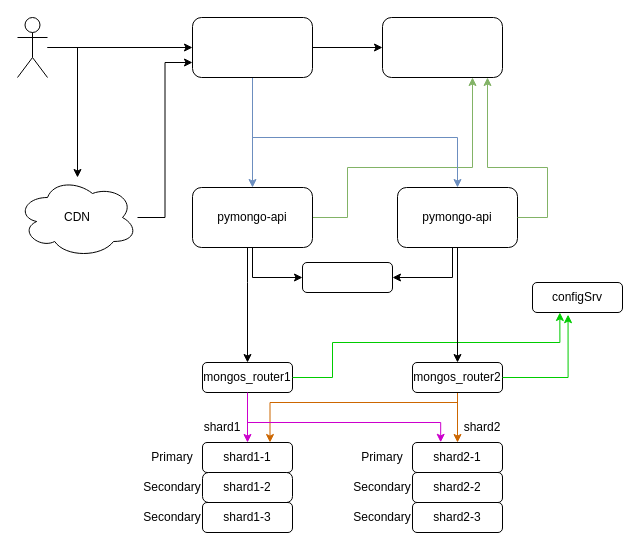
Image size: 640x550. Some labels were removed from this diagram. Each missing label, with the centre of its shape:
"Actor" belongs at [32,47].
"APISIX Gateway" belongs at [252,47].
"Consul" belongs at [442,47].
"redis_cache" belongs at [347,277].
